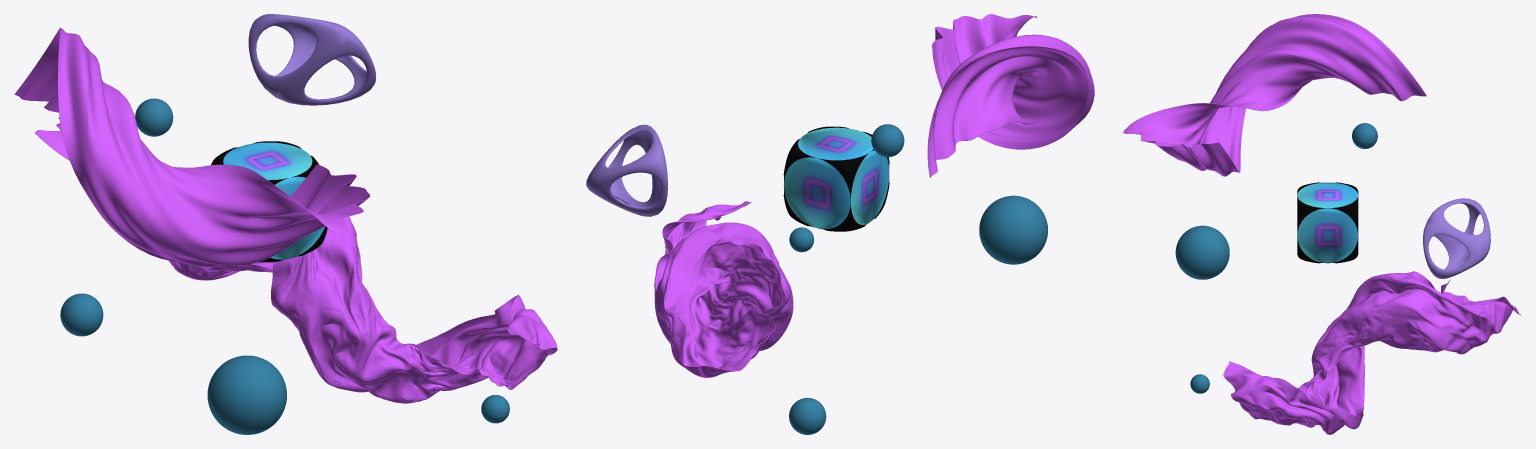
The model's file is latest3.glb.
3 renders of one model, left to right at view 1: azimuth 30°, elevation 25°; view 2: azimuth 150°, elevation 25°; view 3: azimuth 270°, elevation 25°, orthographic. The views are drawn at different scales.
Parts seen in each view (by area): view 1: cloth, cloth2, Cube, ball2, Cube.001, ball1, ball3, ball4; view 2: cloth, cloth2, Cube.001, Cube, ball2, ball1, ball3, ball4; view 3: cloth2, cloth, Cube.001, Cube, ball2, ball3.
Part boxes in pixels (x1,y1,x2,y2): cloth: (14, 27, 370, 267); cloth2: (168, 216, 557, 403); Cube: (248, 14, 376, 105); ball2: (207, 355, 286, 434); Cube.001: (211, 141, 327, 262); ball1: (60, 293, 103, 336); ball3: (135, 98, 173, 136); ball4: (481, 395, 509, 423); cloth: (927, 14, 1094, 177); cloth2: (654, 201, 793, 377); Cube.001: (783, 126, 889, 231); Cube: (586, 124, 667, 216); ball2: (979, 195, 1047, 264); ball1: (789, 397, 826, 434); ball3: (871, 124, 904, 157); ball4: (789, 227, 813, 252); cloth2: (1223, 271, 1521, 434); cloth: (1123, 14, 1426, 176); Cube.001: (1297, 182, 1358, 263); Cube: (1423, 198, 1490, 278); ball2: (1175, 225, 1229, 279); ball3: (1352, 123, 1377, 148).
Size of the model in its own units: 2.52 by 2.2 by 2.68.
Materials: 4 (1 with a texture image).
